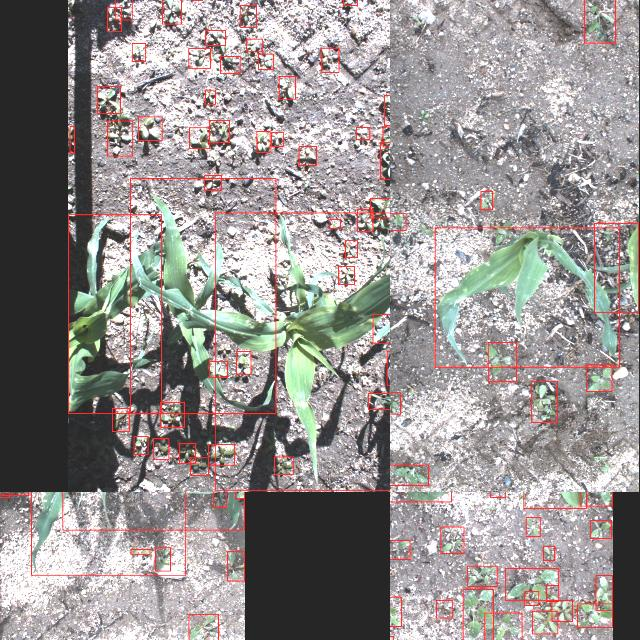crop: (215, 212, 390, 489), (130, 178, 276, 414), (434, 228, 620, 366), (68, 214, 162, 413), (30, 492, 185, 575), (594, 223, 638, 313), (523, 492, 586, 508), (373, 314, 390, 343), (369, 393, 390, 409), (387, 351, 390, 385)
weed: (506, 568, 558, 600), (463, 589, 493, 640), (584, 0, 616, 43), (488, 342, 516, 382), (532, 382, 558, 422), (484, 613, 521, 640), (106, 120, 132, 156), (578, 604, 612, 628), (390, 464, 428, 485), (189, 615, 219, 640), (586, 364, 612, 392), (441, 526, 464, 554), (160, 402, 184, 428), (532, 610, 558, 634), (98, 86, 120, 114), (467, 566, 497, 586), (138, 117, 162, 141), (596, 576, 612, 610), (208, 445, 234, 465), (228, 551, 245, 581), (208, 120, 230, 142), (579, 492, 612, 506), (188, 48, 210, 68), (552, 600, 572, 622), (161, 0, 180, 23), (278, 76, 296, 100), (189, 128, 209, 148), (370, 198, 390, 218), (590, 520, 612, 538), (322, 48, 338, 72), (112, 408, 128, 432), (380, 142, 390, 179), (107, 6, 121, 32), (390, 540, 409, 559), (299, 146, 317, 166), (220, 56, 240, 74), (274, 457, 294, 475), (178, 444, 196, 464), (240, 5, 256, 27), (236, 352, 252, 374), (358, 208, 372, 232), (390, 597, 401, 627), (190, 458, 208, 476), (205, 30, 225, 46), (115, 0, 131, 20), (156, 548, 170, 570), (154, 438, 168, 459), (339, 267, 355, 285), (209, 361, 227, 377), (436, 600, 452, 618), (256, 132, 270, 152), (390, 213, 406, 230), (131, 43, 145, 61), (204, 176, 222, 190), (134, 436, 148, 454), (526, 518, 540, 536), (481, 190, 493, 210), (245, 38, 262, 52), (258, 54, 272, 70), (546, 585, 560, 601), (345, 240, 357, 258), (525, 591, 539, 605), (213, 492, 226, 507), (390, 392, 399, 413), (384, 95, 390, 125), (271, 132, 283, 146), (382, 127, 390, 147), (356, 128, 369, 140), (205, 90, 215, 104), (544, 547, 554, 561), (70, 126, 74, 154), (330, 220, 340, 228), (130, 550, 150, 554), (490, 492, 505, 497), (343, 0, 357, 5), (235, 492, 244, 498)
